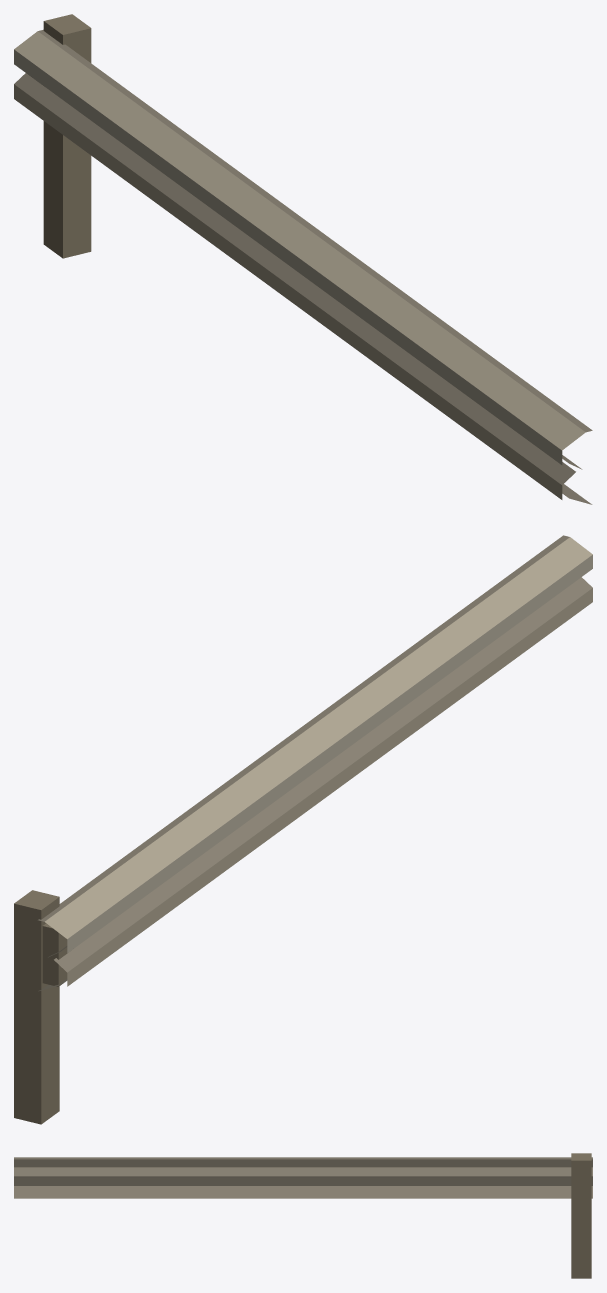
File: ds_trk_guardrail.glb
The picture shows the model from 3 angles, top to bottom: view 1: azimuth 30°, elevation 25°; view 2: azimuth 150°, elevation 25°; view 3: azimuth 270°, elevation 25°; orthographic projection. The views are drawn at different scales.
Visible parts, largest first — view 1: ds_trk_guardrail; view 2: ds_trk_guardrail; view 3: ds_trk_guardrail.
Boxes of the visible parts, x1,y1,x2,y2 form: ds_trk_guardrail: (14, 14, 592, 504); ds_trk_guardrail: (14, 535, 592, 1124); ds_trk_guardrail: (14, 1153, 592, 1278).
Bounding box in the file's own units: 0.2398 × 0.8999 × 4.
